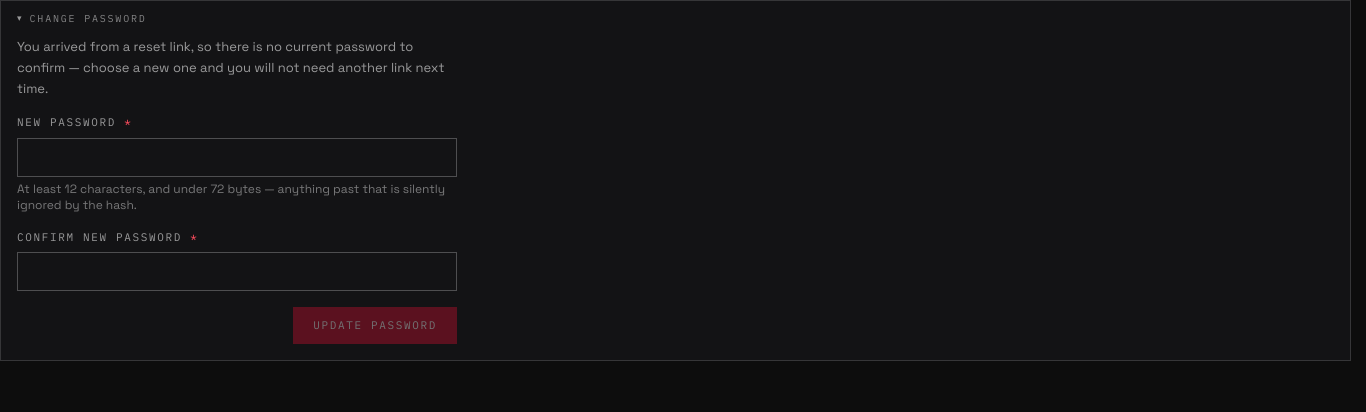
Test: the submit gate › does not gate on it when the form is not asking for it
This screenshot has width=1366, height=412.
Step 1. Type "correct horse battery staple" into the password field labelled "New password *" → {"x": 237, "y": 157}, box x1=17 y1=138 x2=457 y2=177
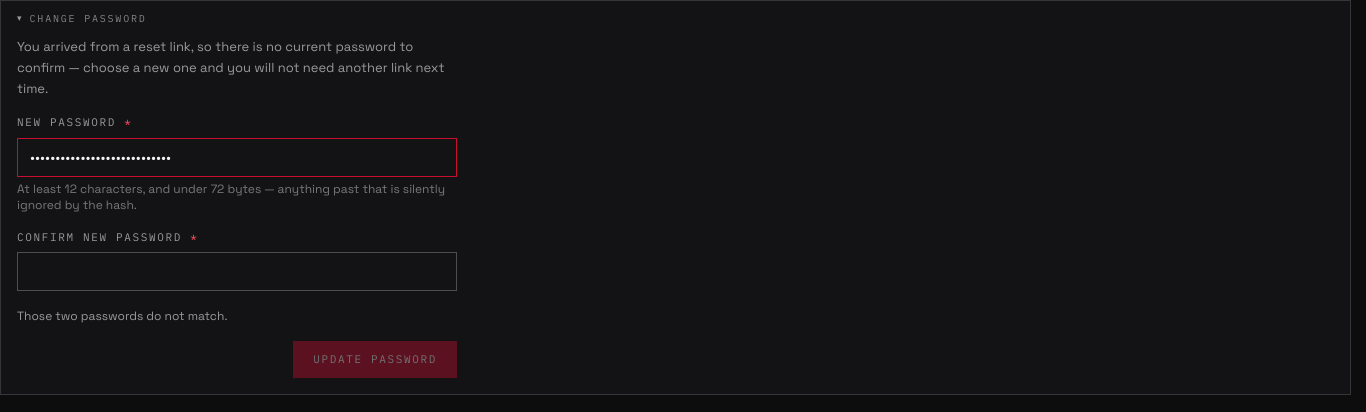
Step 2. Type "correct horse battery staple" into the password field labelled "Confirm new password *" → {"x": 237, "y": 272}, box x1=17 y1=252 x2=457 y2=291
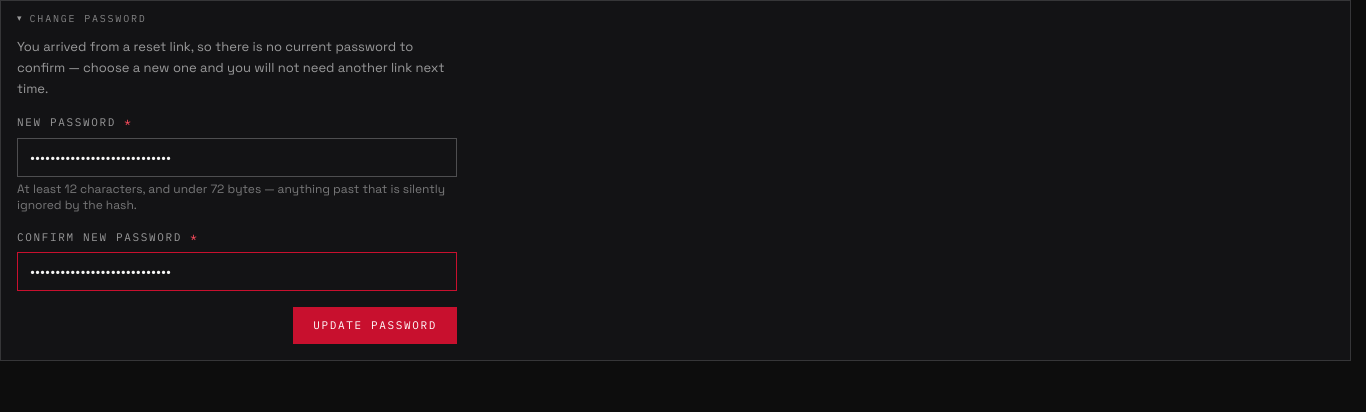
expect the button "Update password" is enabled: met, box x1=293 y1=307 x2=457 y2=344
